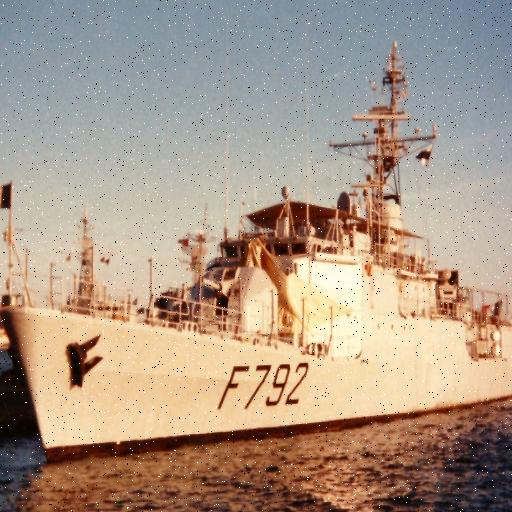Fragata: (1, 38, 512, 468)
